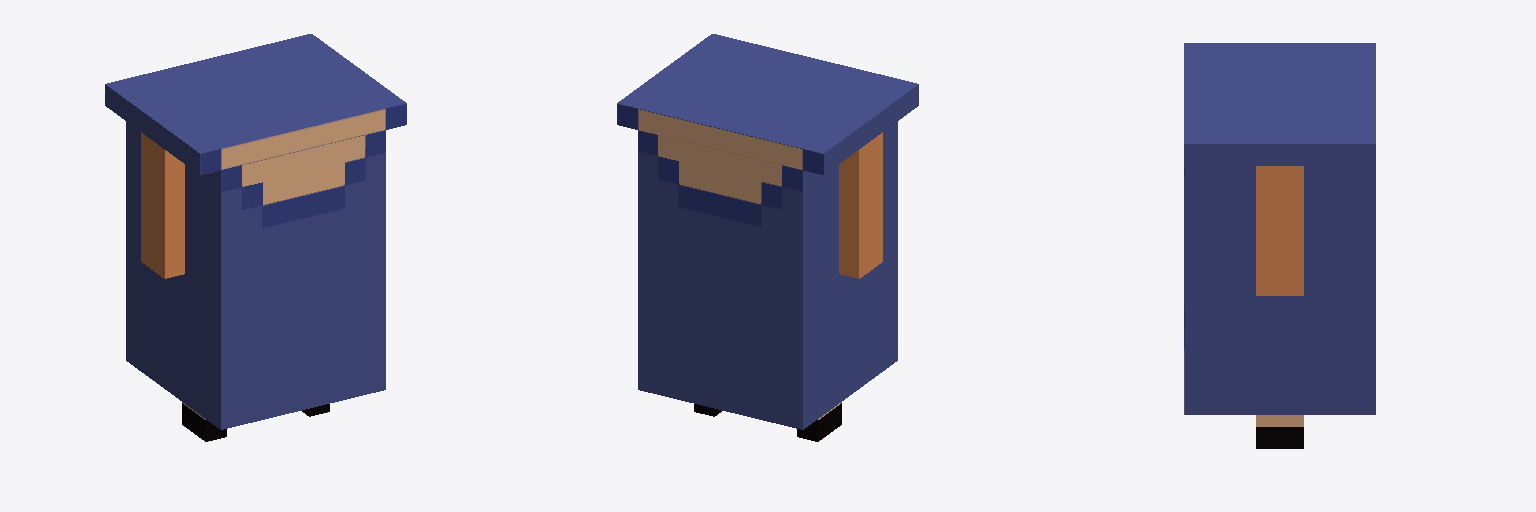
The picture shows the model from 3 angles: view 1: azimuth 30°, elevation 25°; view 2: azimuth 150°, elevation 25°; view 3: azimuth 270°, elevation 25°; orthographic projection.
Visible parts, largest first — view 1: body_Plane.001, arm.r_Plane.007, leg.r_Plane.002; view 2: body_Plane.001, arm.r_Plane.007, leg.r_Plane.002; view 3: body_Plane.001, arm.l_Plane.006, leg.l_Plane.005.
Part boxes in pixels (bbox=[...]): body_Plane.001: bbox=[105, 34, 406, 429]; arm.r_Plane.007: bbox=[141, 132, 184, 278]; leg.r_Plane.002: bbox=[182, 402, 226, 441]; body_Plane.001: bbox=[617, 34, 918, 429]; arm.r_Plane.007: bbox=[839, 132, 882, 278]; leg.r_Plane.002: bbox=[797, 402, 841, 441]; body_Plane.001: bbox=[1184, 43, 1375, 414]; arm.l_Plane.006: bbox=[1256, 166, 1303, 295]; leg.l_Plane.005: bbox=[1256, 415, 1303, 448].
Bounding box in the file's own units: 0.0645 × 0.0968 × 0.0516.
Materials: 3 (2 with a texture image).